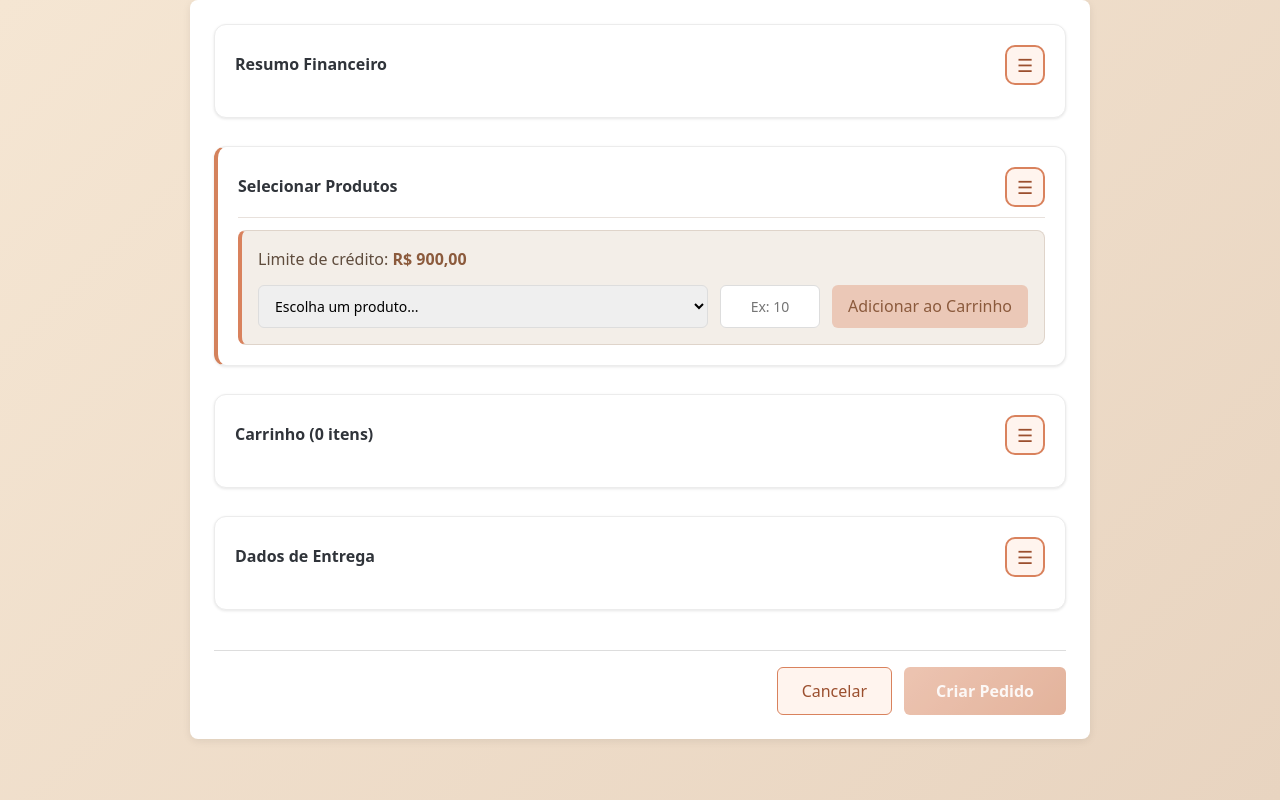
Test: CreateOrderForm security rules › abre o carrinho e confirma ao adicionar um produto
Select "Pao para Hamburguer - R$ 5,00" in the dropdown at (483, 306), box [258,285,708,328]
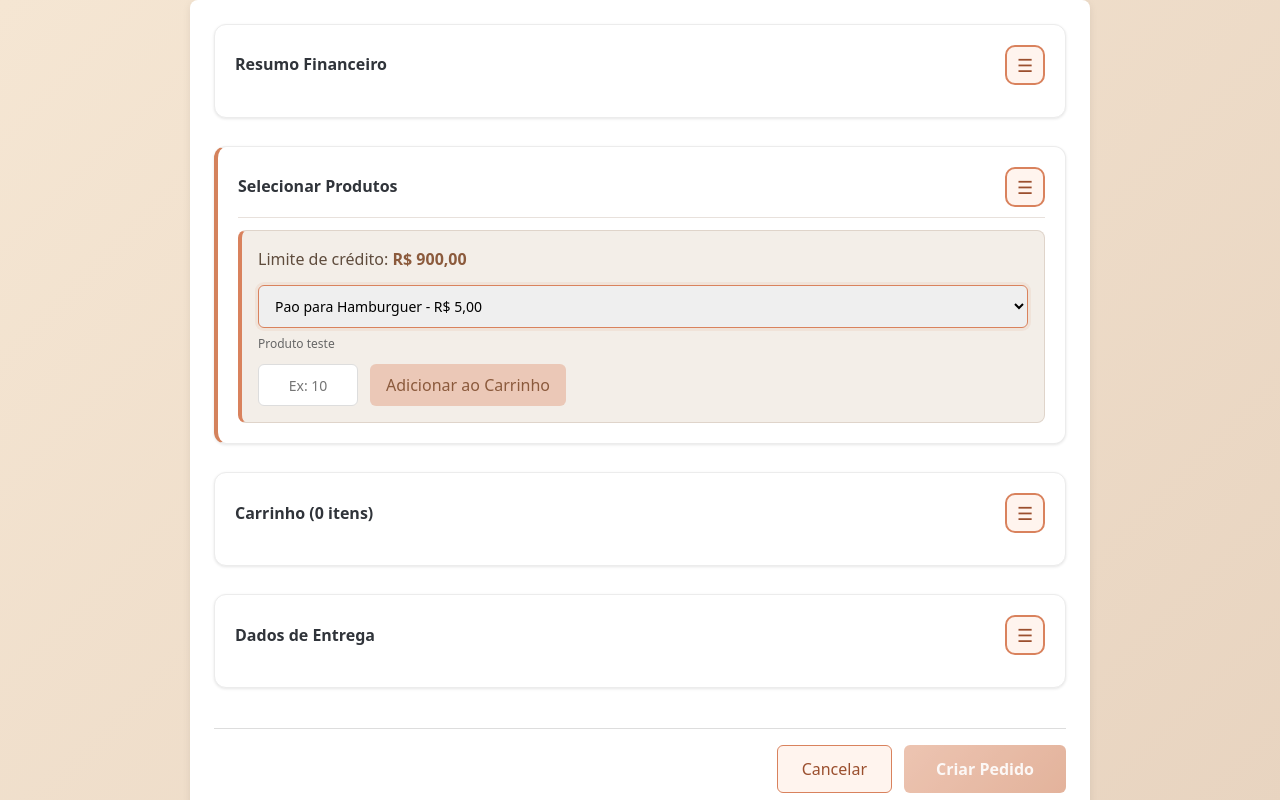
Type "2" into the field named "Quantidade" at (308, 385), box [258,364,358,406]
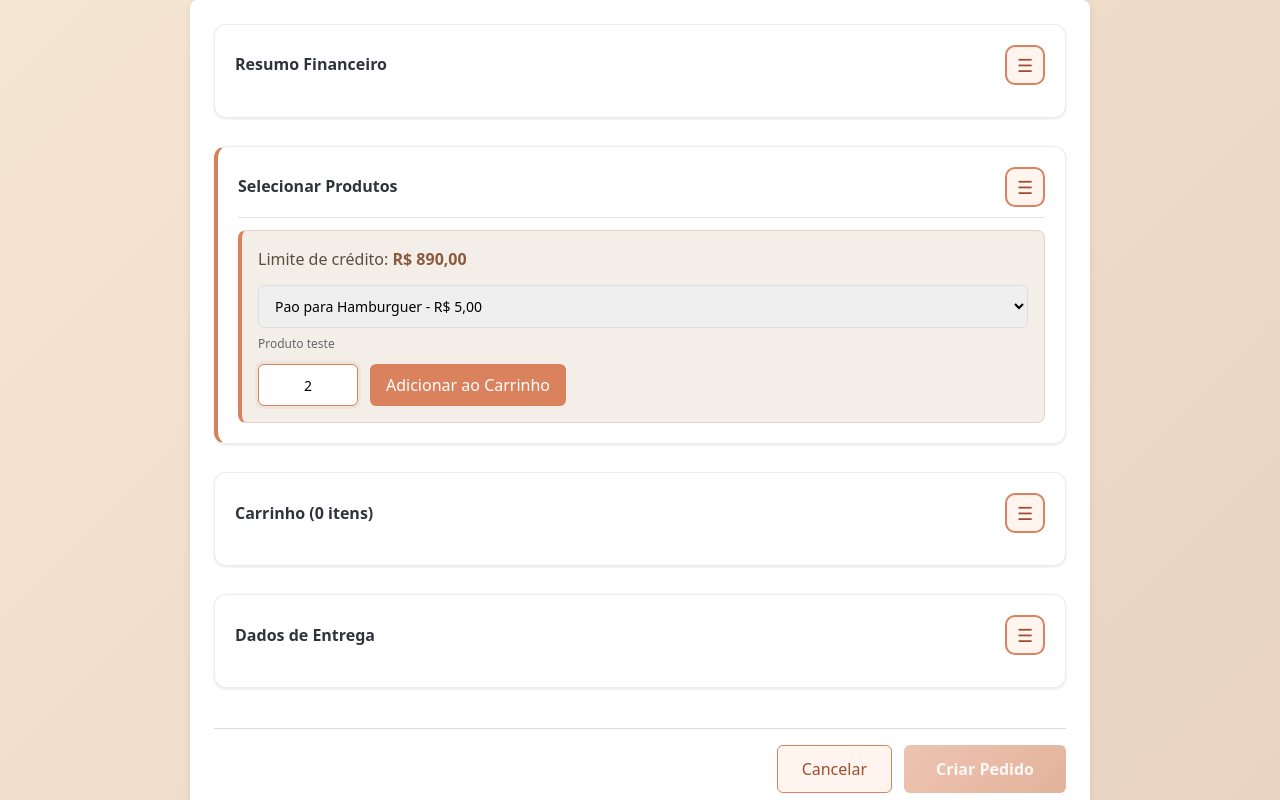
Click the button "Adicionar ao Carrinho" at (468, 385), box [370,364,566,406]
(page scrolled)
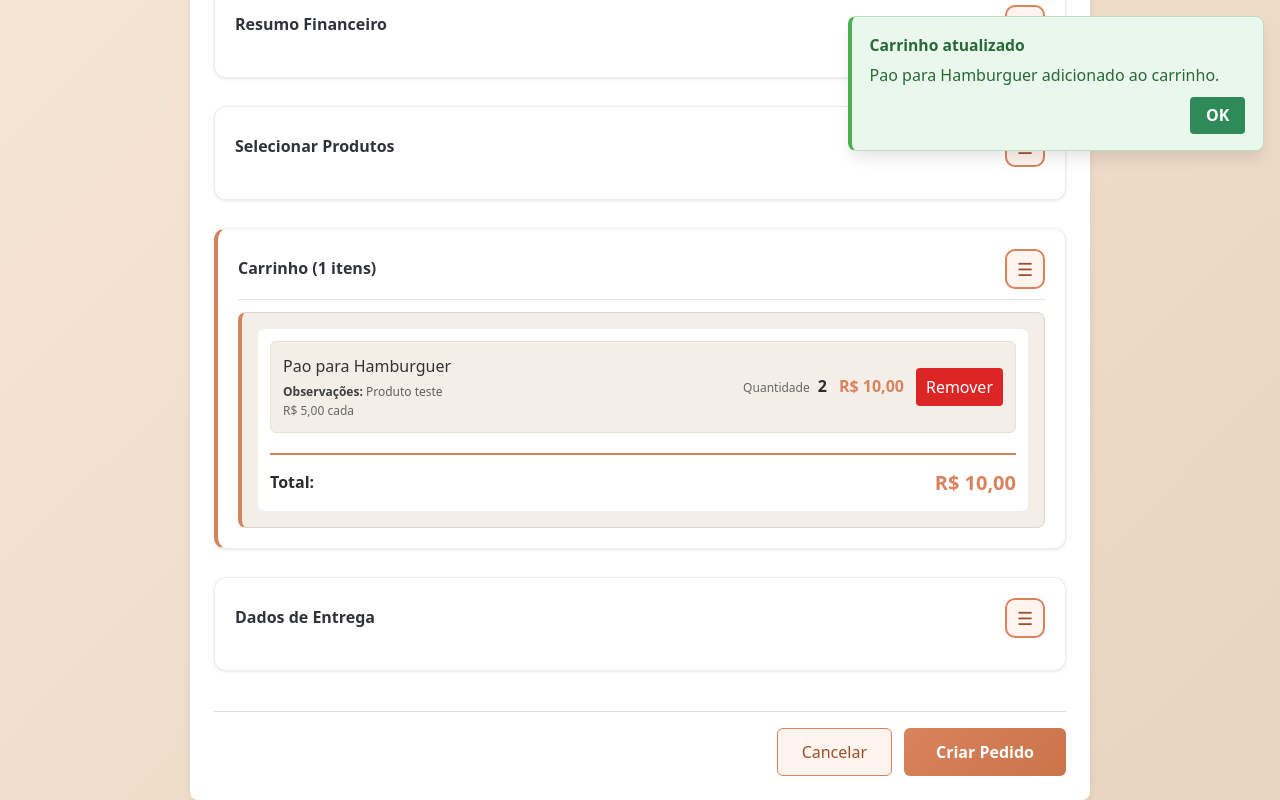
Check: the message shows "Pao para Hamburguer adicionado ao carrinho.", box [870,64,1219,86]
Check: the text "Total:" is shown, box [270,470,314,496]
Check: the heading "Carrinho (1 itens)" is shown, box [238,259,376,279]
